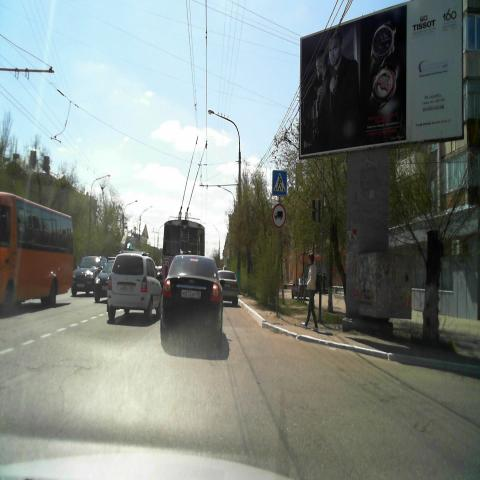3_4_1: (272, 203, 286, 228)
5_19_1: (272, 169, 286, 196)
